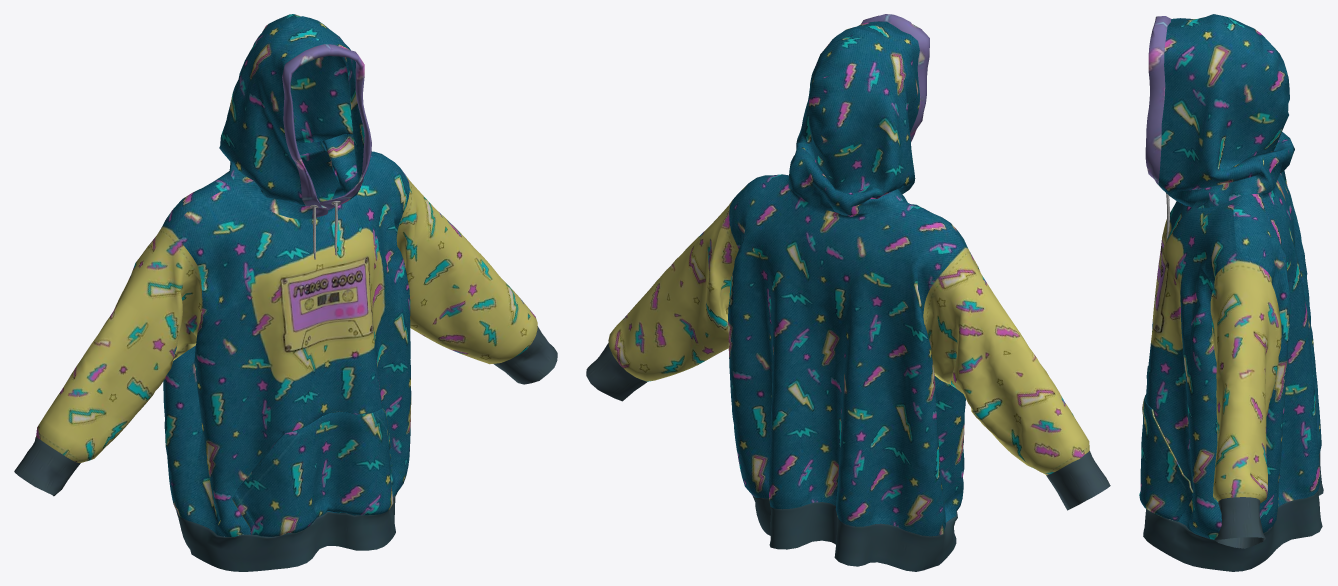
The model's file is cassette-hoodie.glb.
3 renders of one model, left to right at view 1: azimuth 30°, elevation 25°; view 2: azimuth 150°, elevation 25°; view 3: azimuth 270°, elevation 25°, orthographic. The views are drawn at different scales.
Parts seen in each view (by area): view 1: source_mesh_4, source_mesh_6; view 2: source_mesh_4, source_mesh_6; view 3: source_mesh_4, source_mesh_6.
Boxes of the visible parts, box(x1,y1,x2,y2) form: source_mesh_4: box(36, 14, 537, 536); source_mesh_6: box(14, 326, 557, 571); source_mesh_4: box(608, 14, 1089, 536); source_mesh_6: box(586, 343, 1110, 571); source_mesh_4: box(1139, 14, 1321, 539); source_mesh_6: box(1143, 452, 1323, 571).
Bounding box in the file's own units: 2.66 × 2.5 × 0.8149.
4 materials, 3 textured.
